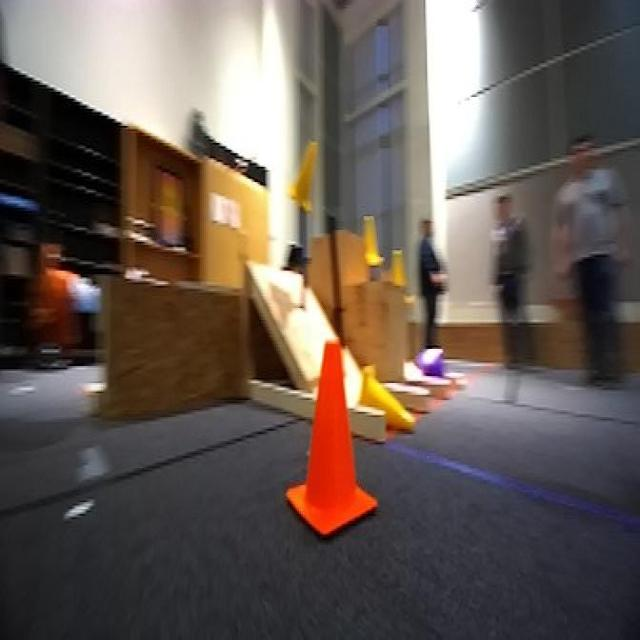frc_cone: (358, 359, 417, 434), (288, 140, 326, 214), (386, 247, 412, 300), (357, 213, 380, 272)
frc_cube: (414, 344, 449, 376)
